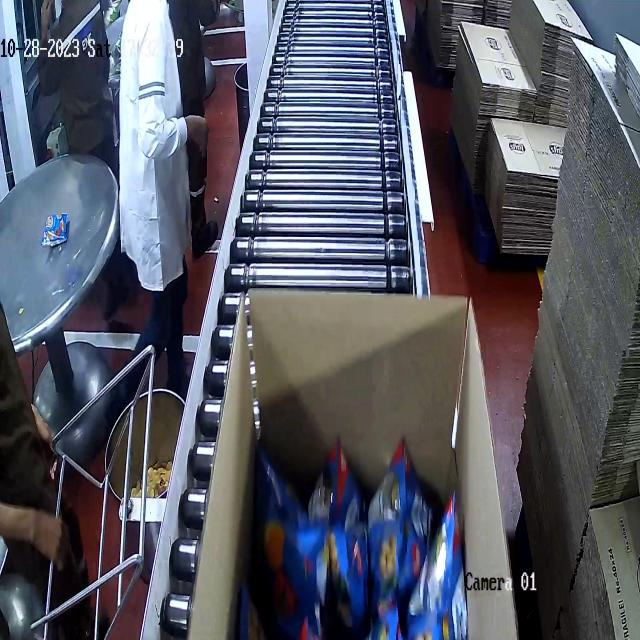PAPRIKA: (258, 421, 458, 640)
